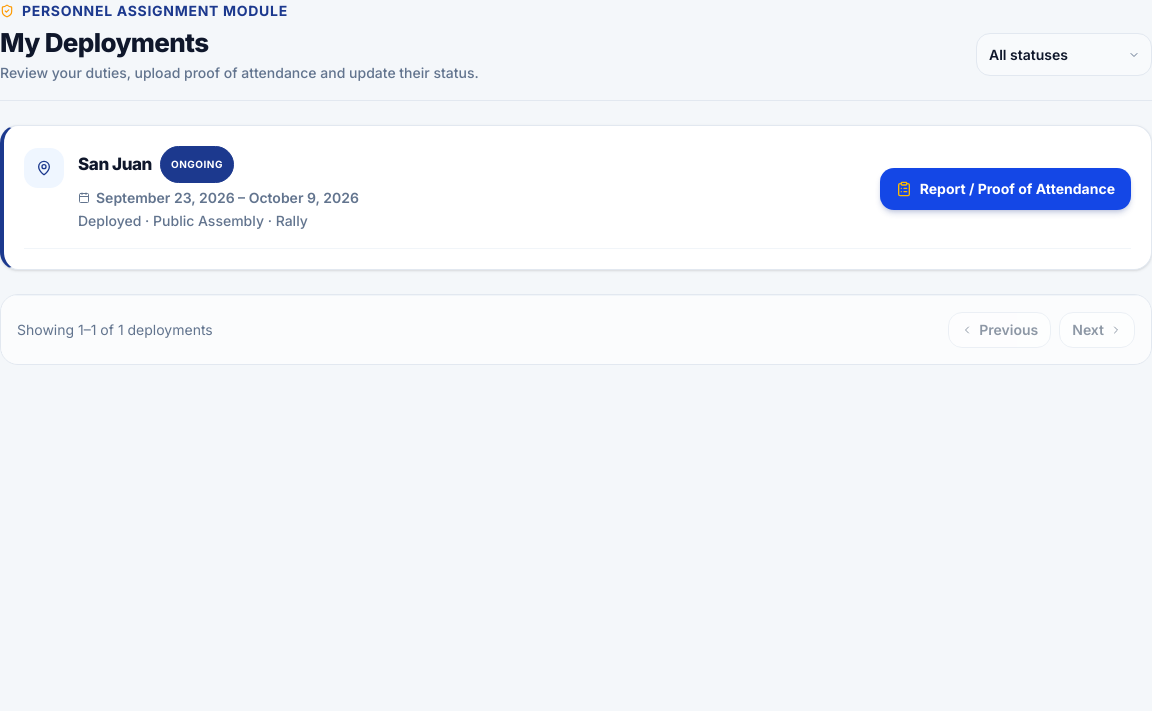
deployment tracking presentation › lets the employee submit a report / proof of attendance for each deployment
The width and height of the screenshot is (1152, 711).
What coordinates should you click on to do the following:
click the button "Report / Proof of Attendance"
I would click on:
 (1005, 189)
Its box is [880,168,1131,210].
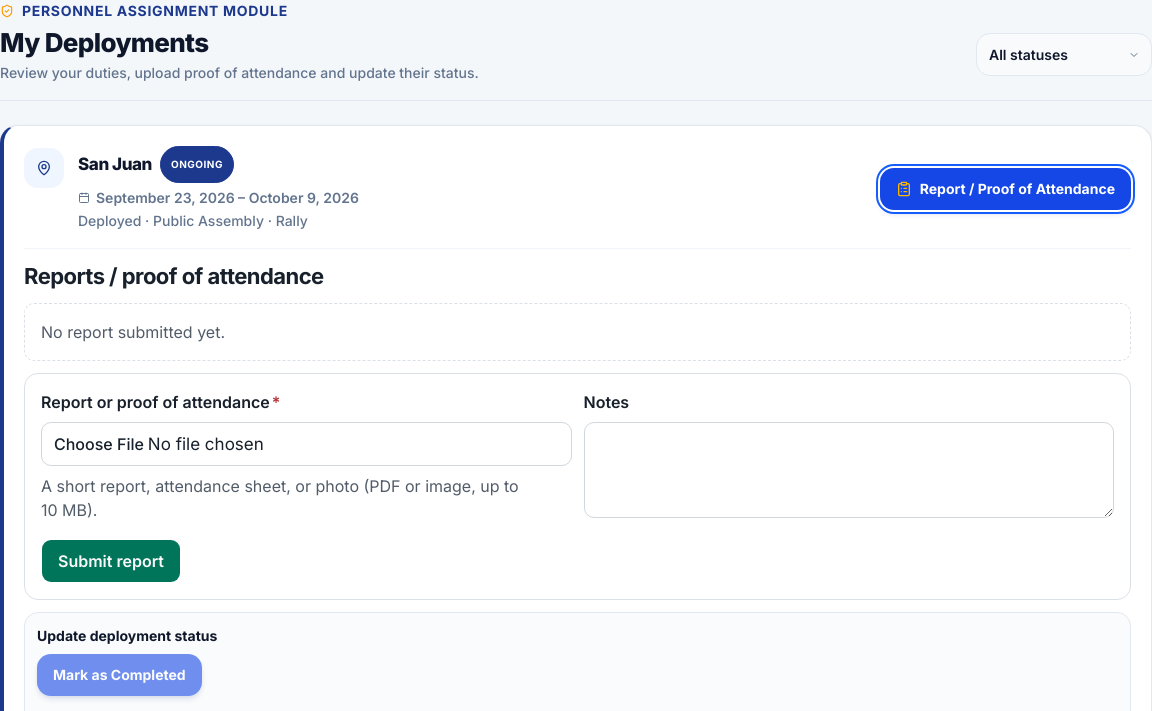
Now the button "Submit report" is shown, box [41,539,181,583]
